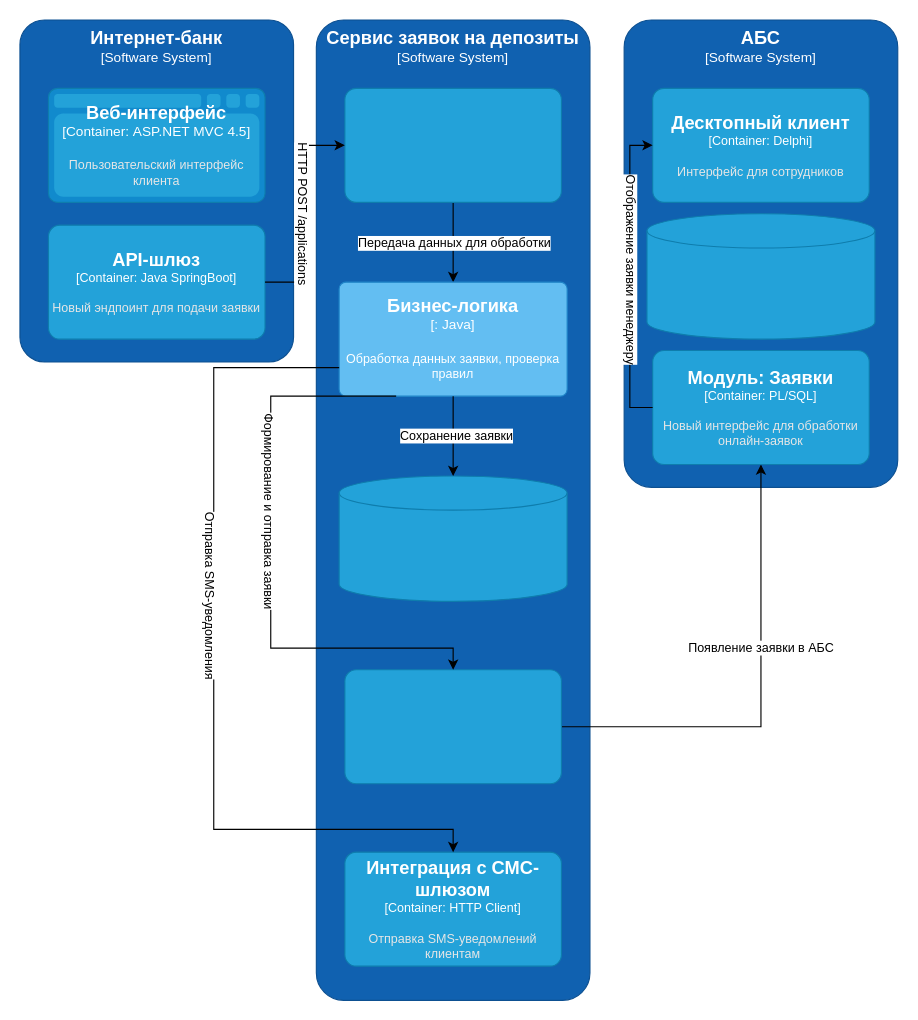
This 918x1020 diagram has some shape labels left out. Here are the shapes that lost their labels. From the top down, the centre of each, then its label:
point (452, 144): REST API [Container: Java SpringBoot] Прием заявок от сайта и интернет банка
point (760, 276): БД АБС [Container: Oracle] Основное хранилище операций и счетов
point (452, 538): БД Заявок [Container: MS SQL Server] Хранение заявок клиентов
point (452, 726): Интеграция с АБС [Container: REST API] Отправка заявки в АБС через API
